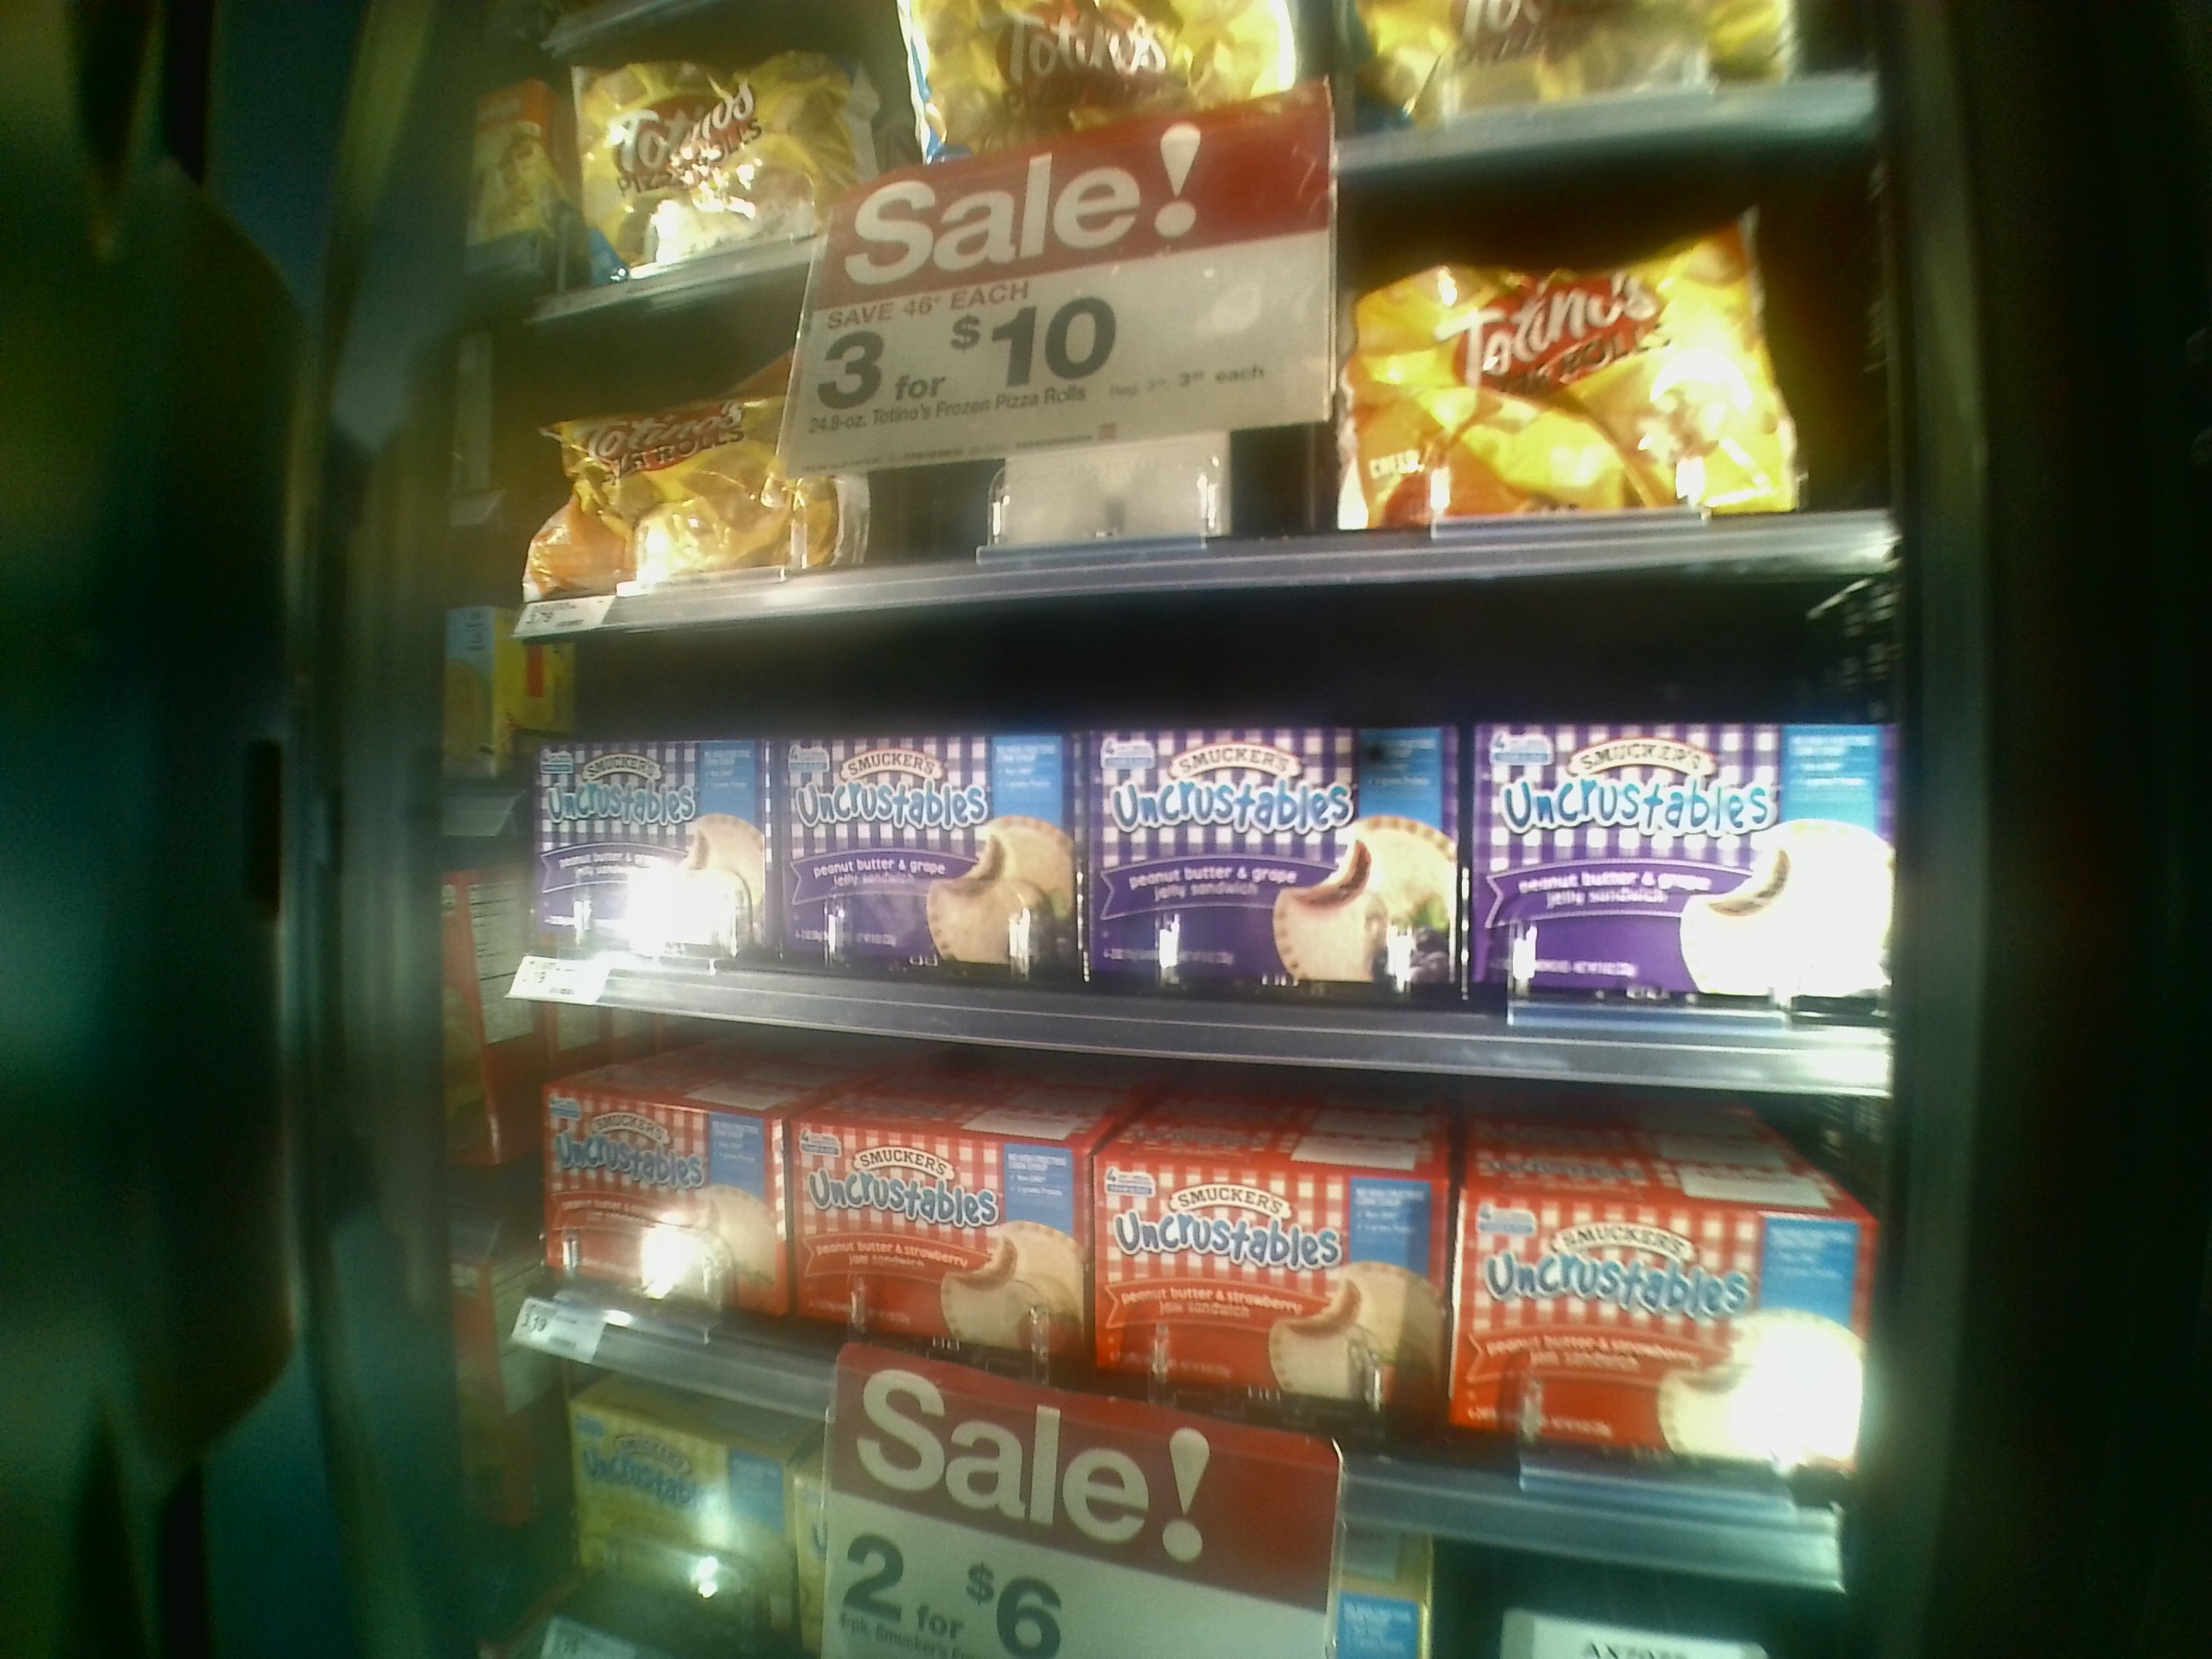shelf: (500, 1047, 1885, 1586), (488, 627, 1900, 1086), (460, 234, 1914, 608)
